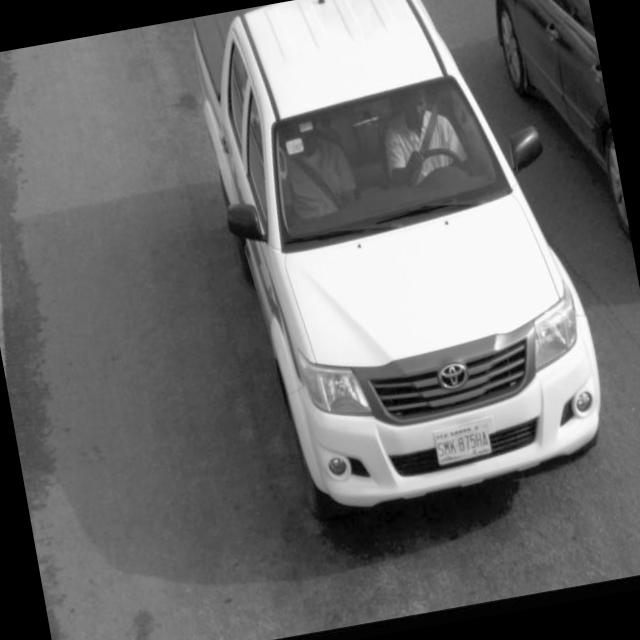person_with_seatbelt: (370, 68, 488, 209)
